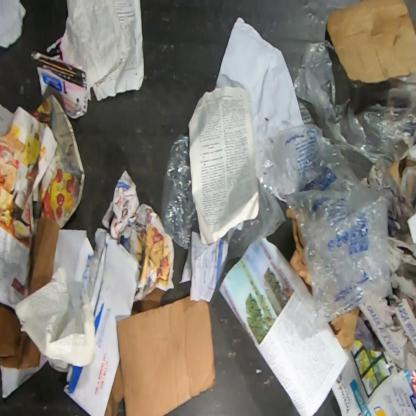cardboard: (116, 296, 217, 415), (326, 0, 416, 84), (0, 301, 40, 370), (28, 216, 59, 296), (286, 208, 309, 285), (331, 307, 360, 350), (104, 361, 124, 415), (131, 288, 165, 316)
soft_plastic: (267, 40, 416, 328), (217, 178, 286, 289), (160, 133, 198, 250)
